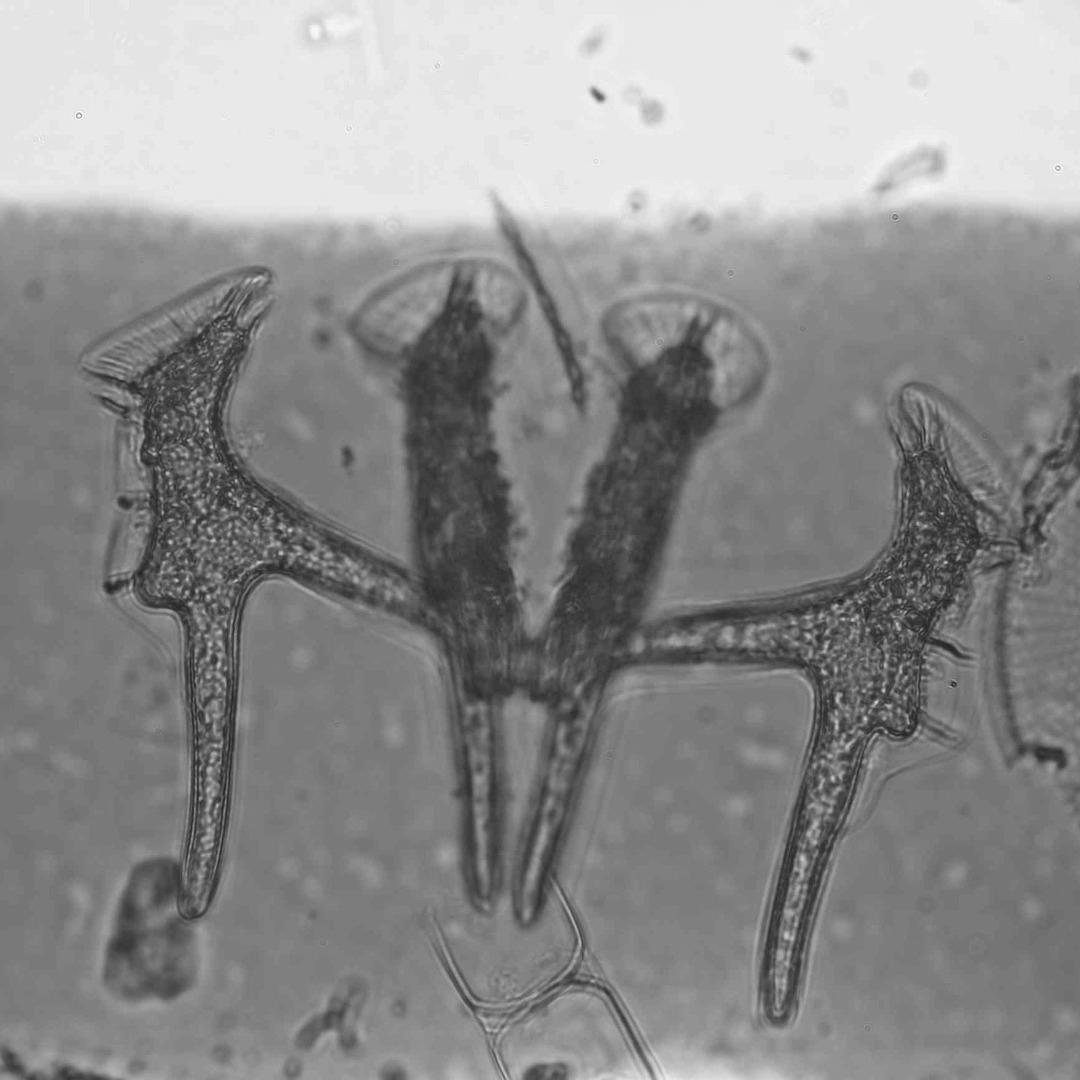dinophysis_miles: (85, 265, 546, 920), (547, 425, 997, 1019)
